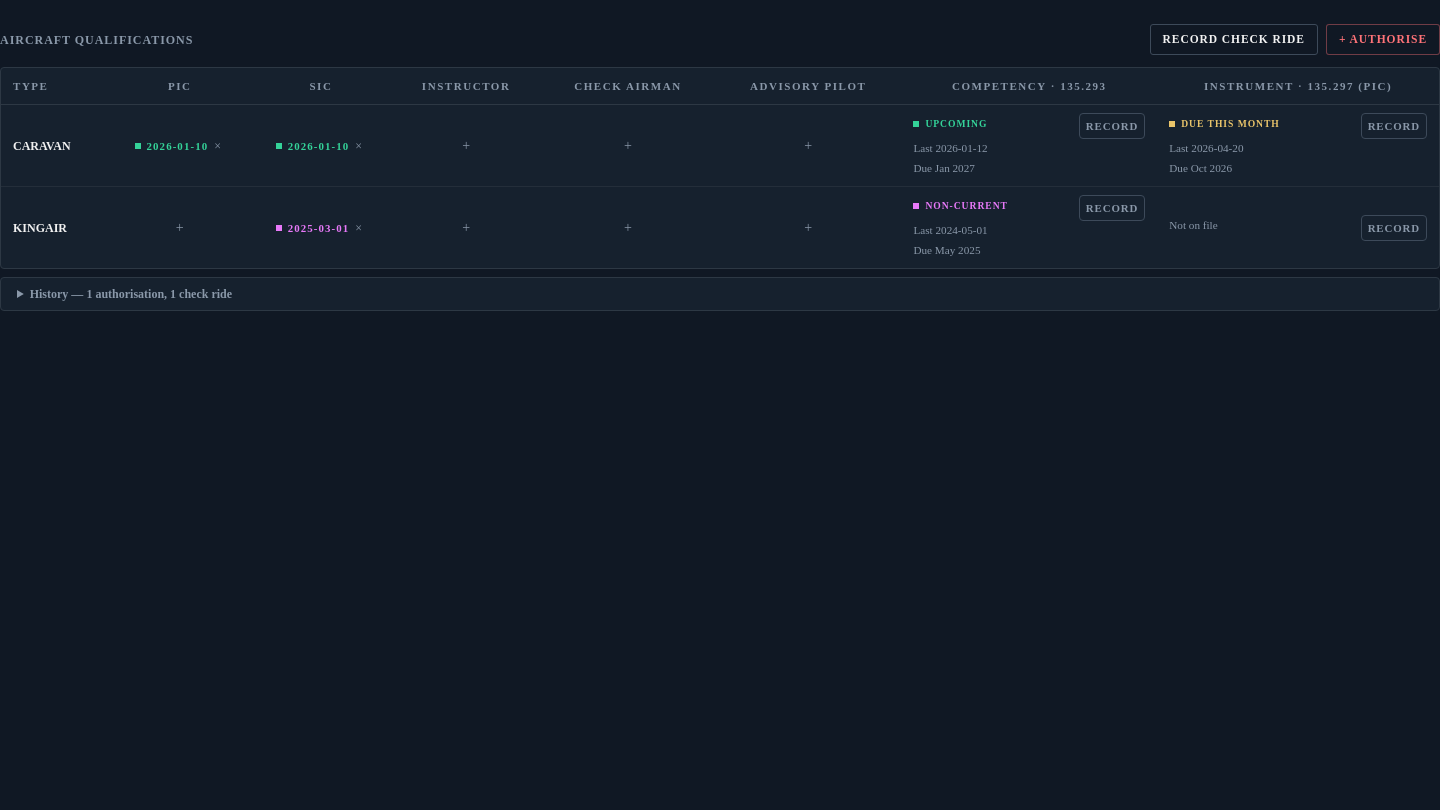
it: TypeQualificationsCard › authorises the position a cell was opened from
The width and height of the screenshot is (1440, 810).
Click the button named "Authorise Instructor on CARAVAN": (466, 146) [454,136,478,156]
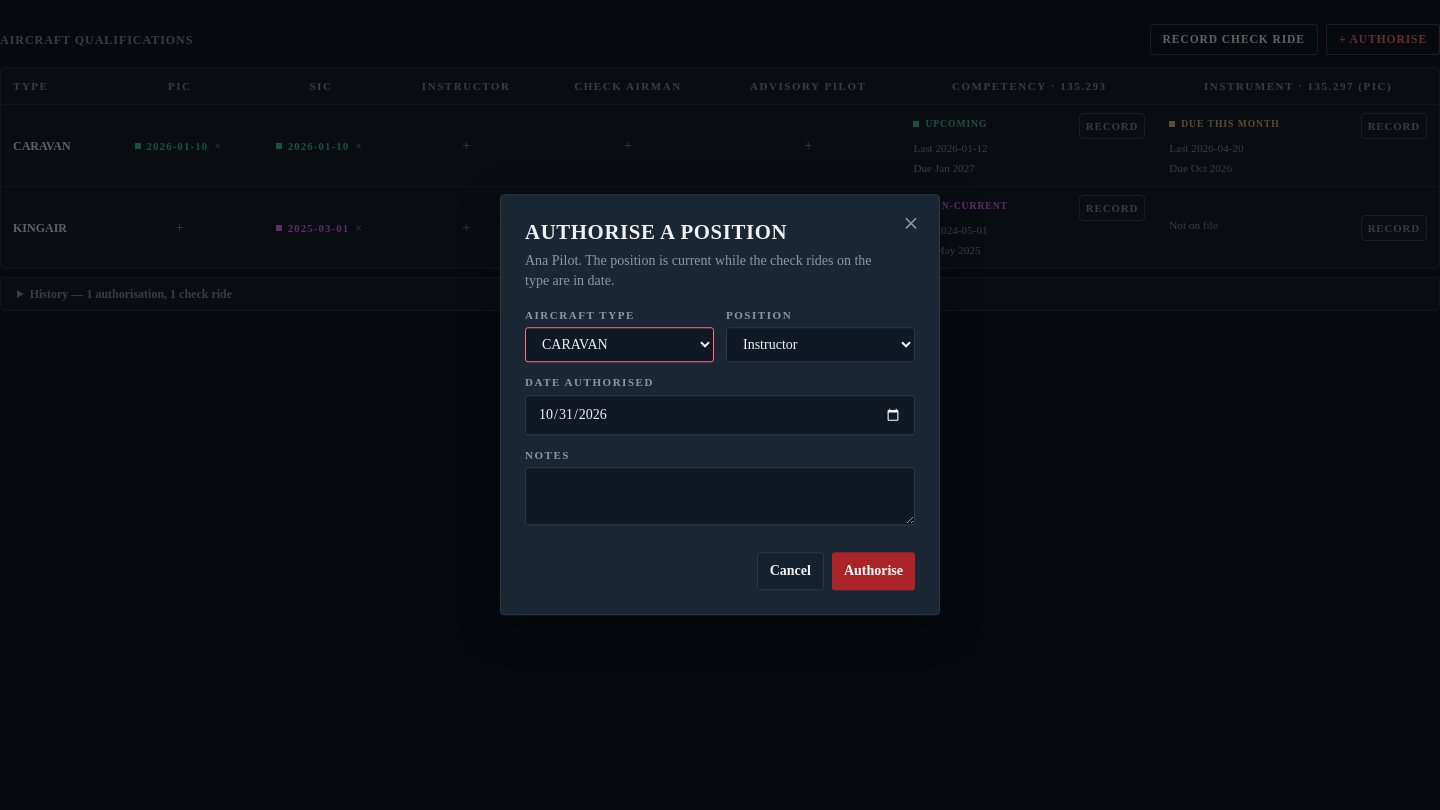
Result: the dropdown labelled "Aircraft type" shows "CARAVAN" at [525,328,714,363]
Result: the dropdown labelled "Position" shows "Instructor" at [726,328,915,363]
In the date field labelled "Date authorised": (720, 415) [525,395,915,435], type "2026-10-01"
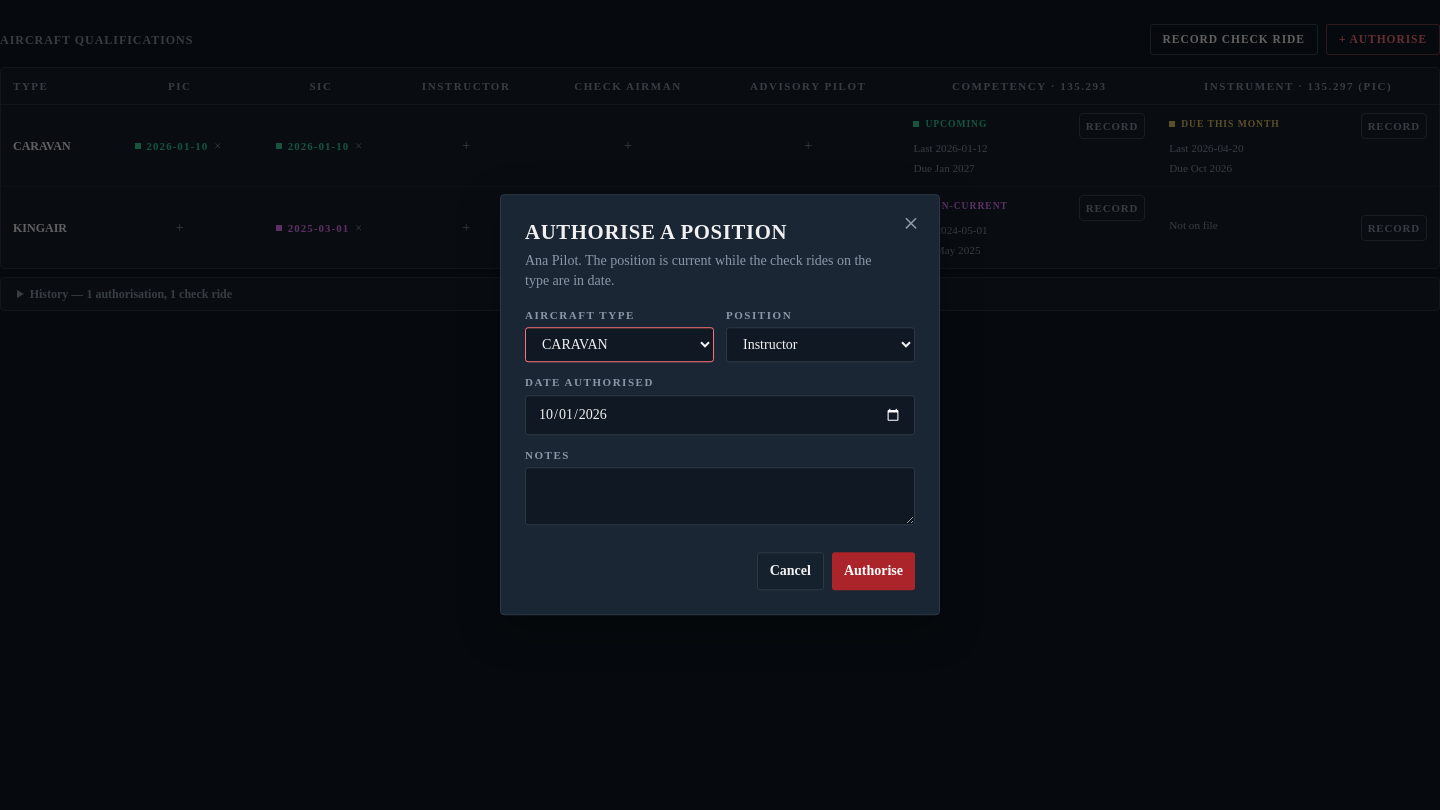
Click the button "Authorise": (873, 572) [832,553,915,591]
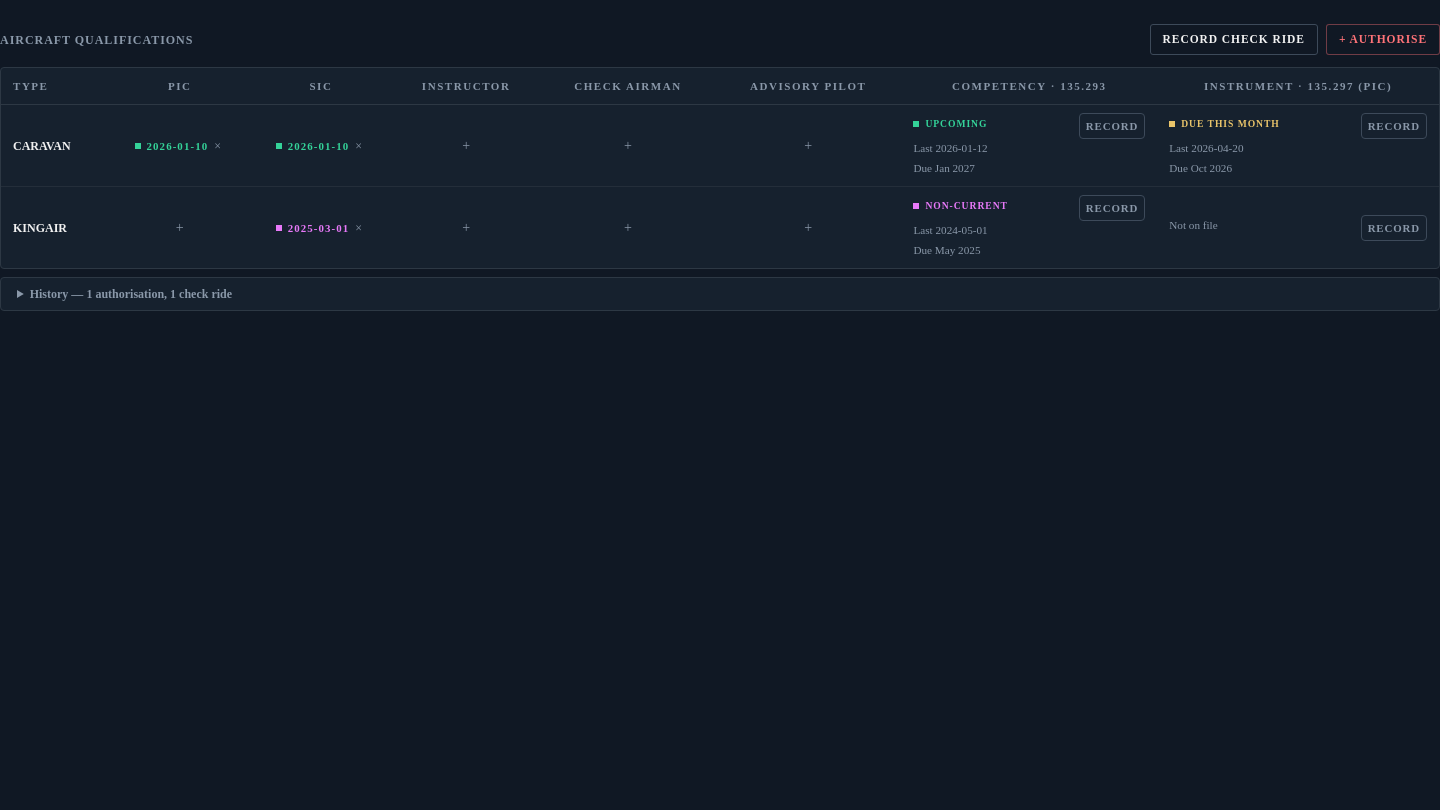
Result: the dialog is gone
